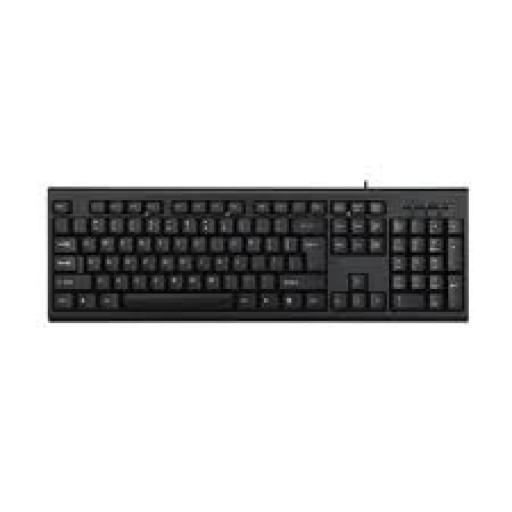keyboard: (48, 189, 466, 319)
